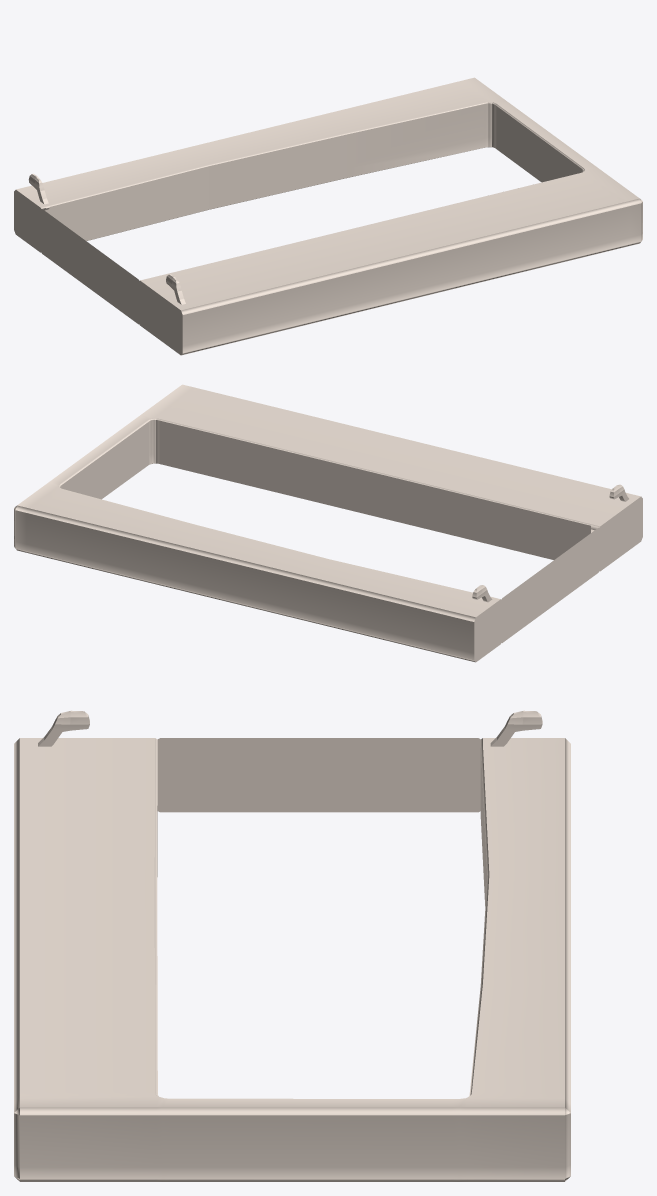
The model's file is DoormeshMicrowaveDoorC3_1_GeomSubset_0.obj.
3 renders of one model, top to bottom at view 1: azimuth 30°, elevation 25°; view 2: azimuth 150°, elevation 25°; view 3: azimuth 270°, elevation 25°, orthographic. The views are drawn at different scales.
Parts seen in each view (by area): view 1: DoormeshMicrowaveDoorC3_1_GeomSubset_0; view 2: DoormeshMicrowaveDoorC3_1_GeomSubset_0; view 3: DoormeshMicrowaveDoorC3_1_GeomSubset_0.
Boxes of the visible parts, box(x1,y1,x2,y2) form: DoormeshMicrowaveDoorC3_1_GeomSubset_0: box(14, 77, 642, 355); DoormeshMicrowaveDoorC3_1_GeomSubset_0: box(14, 384, 642, 662); DoormeshMicrowaveDoorC3_1_GeomSubset_0: box(14, 710, 570, 1181).
Size of the model in its own units: 0.4899 by 0.1619 by 0.3502.
